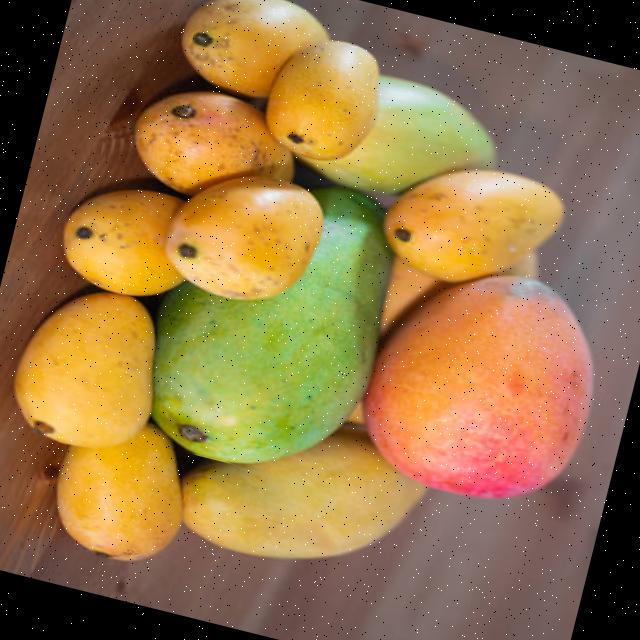mango: (150, 186, 392, 462), (363, 275, 592, 498), (298, 75, 496, 194), (383, 170, 561, 282), (164, 176, 322, 298), (180, 0, 328, 97), (265, 40, 377, 160)
